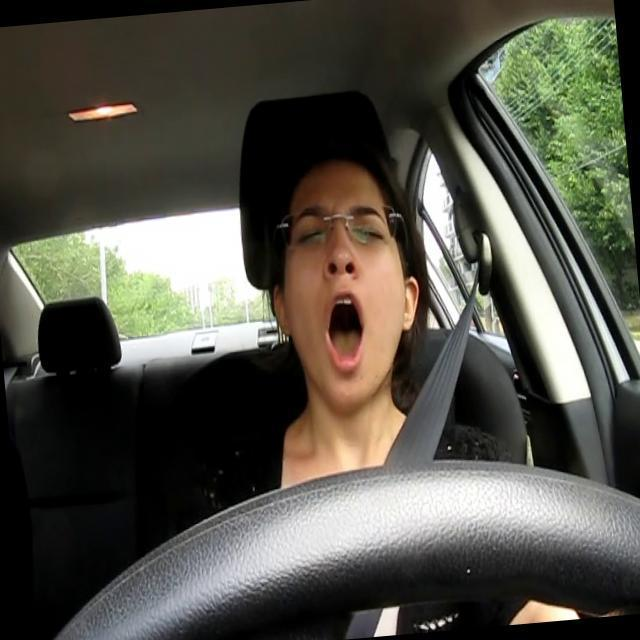open-mouth: (326, 290, 366, 374)
